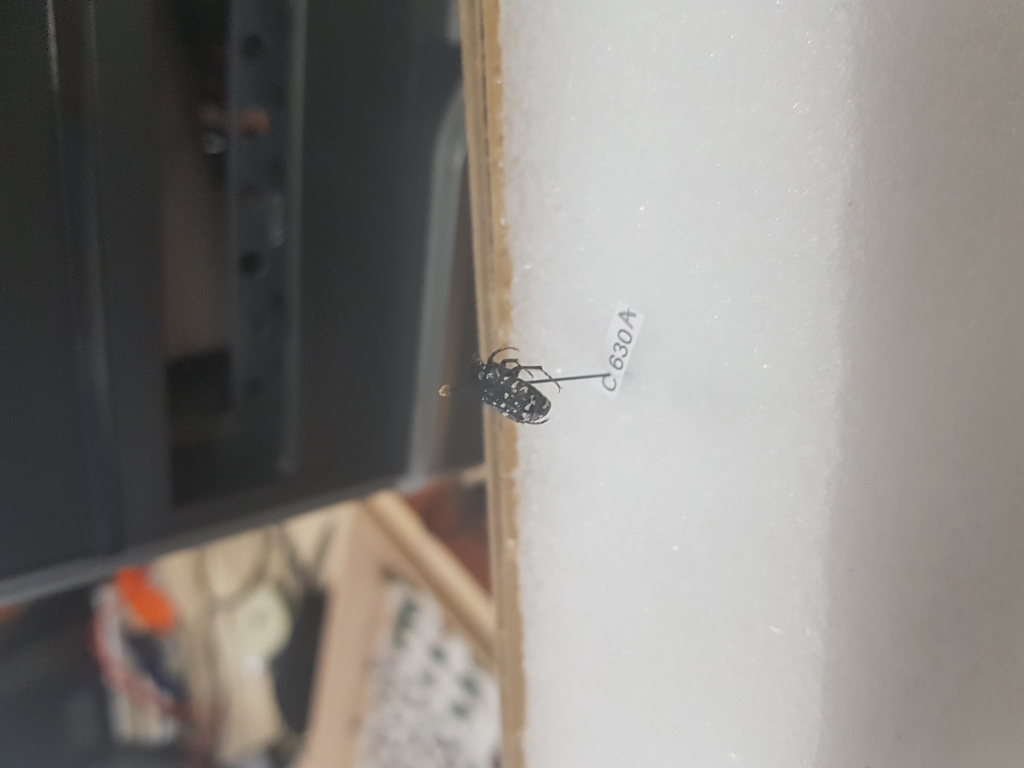Oxythyrea_albopicta: (467, 346, 562, 434)
